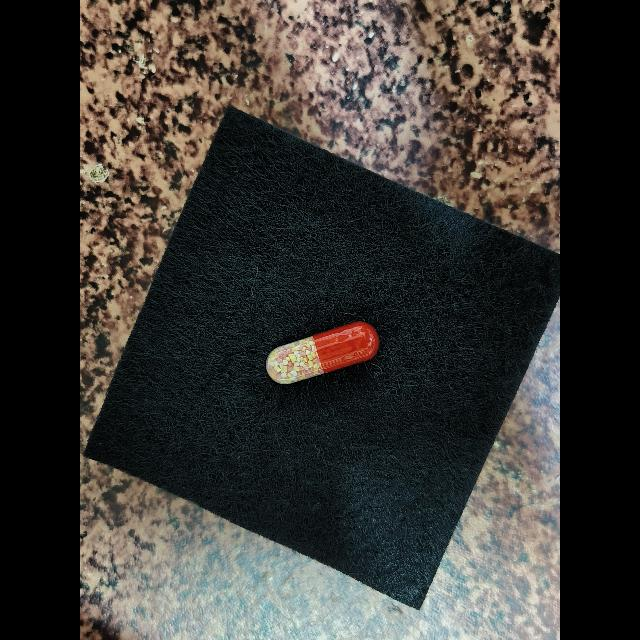Intact Capsule: (266, 321, 379, 384)
